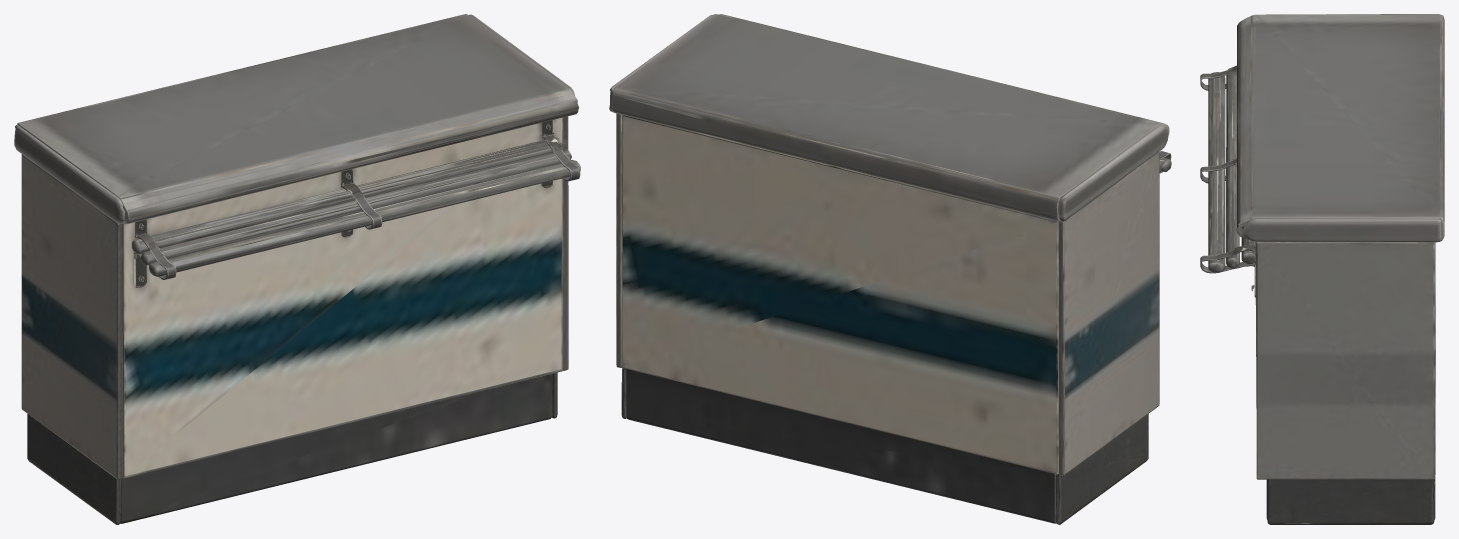
The model's file is shop-counter-t25.glb.
3 views of the same model, side by side, from view 1: azimuth 30°, elevation 25°; view 2: azimuth 150°, elevation 25°; view 3: azimuth 270°, elevation 25° (orthographic). The views are drawn at different scales.
Parts seen in each view (by area): view 1: shop-counter-t25; view 2: shop-counter-t25; view 3: shop-counter-t25.
Part boxes in pixels (box(x1,y1,x2,y2)): shop-counter-t25: box(14, 14, 580, 524); shop-counter-t25: box(609, 14, 1171, 524); shop-counter-t25: box(1200, 14, 1444, 524).
Size of the model in its own units: 1.5 by 1.05 by 0.75.
Materials: 1 (1 with a texture image).
